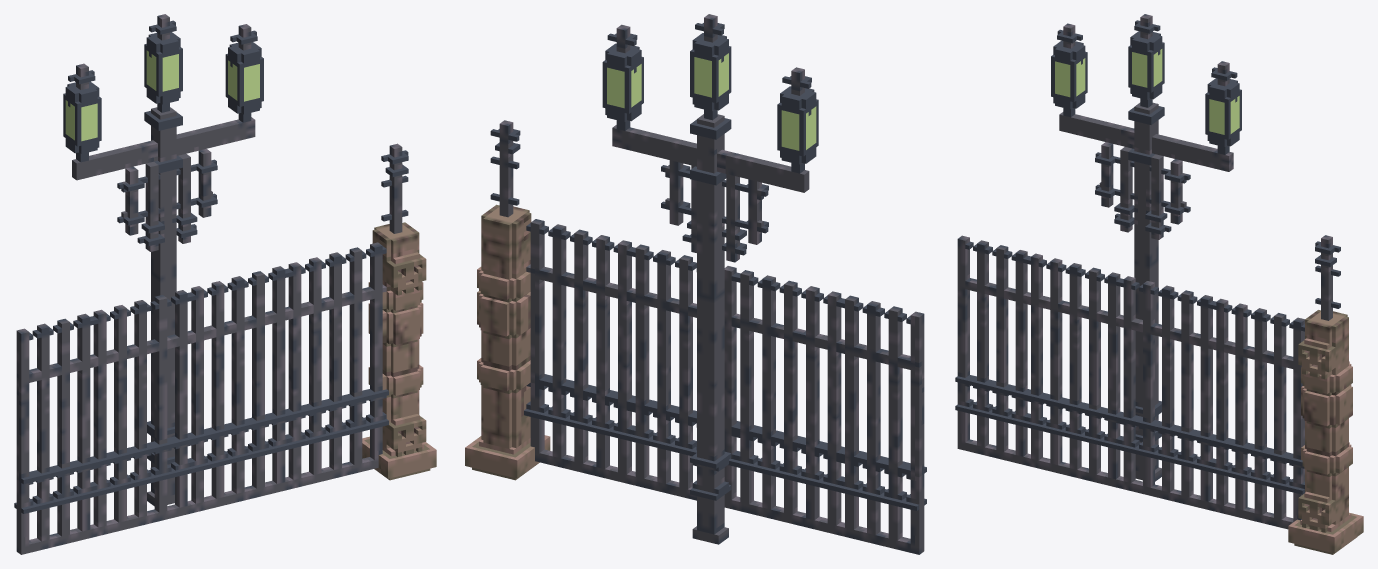
Rendered from Entrace_Fence-1.fbx.
The picture shows the model from 3 angles, left to right: view 1: azimuth 30°, elevation 25°; view 2: azimuth 150°, elevation 25°; view 3: azimuth 330°, elevation 25°; orthographic projection. The views are drawn at different scales.
Parts seen in each view (by area): view 1: Entrace_Fence-1; view 2: Entrace_Fence-1; view 3: Entrace_Fence-1.
Boxes of the visible parts, left/top/right/bottom form: Entrace_Fence-1: left=14, top=14, right=436, bottom=554; Entrace_Fence-1: left=465, top=14, right=926, bottom=554; Entrace_Fence-1: left=955, top=14, right=1363, bottom=554.
Size of the model in its own units: 500 by 570 by 95.
